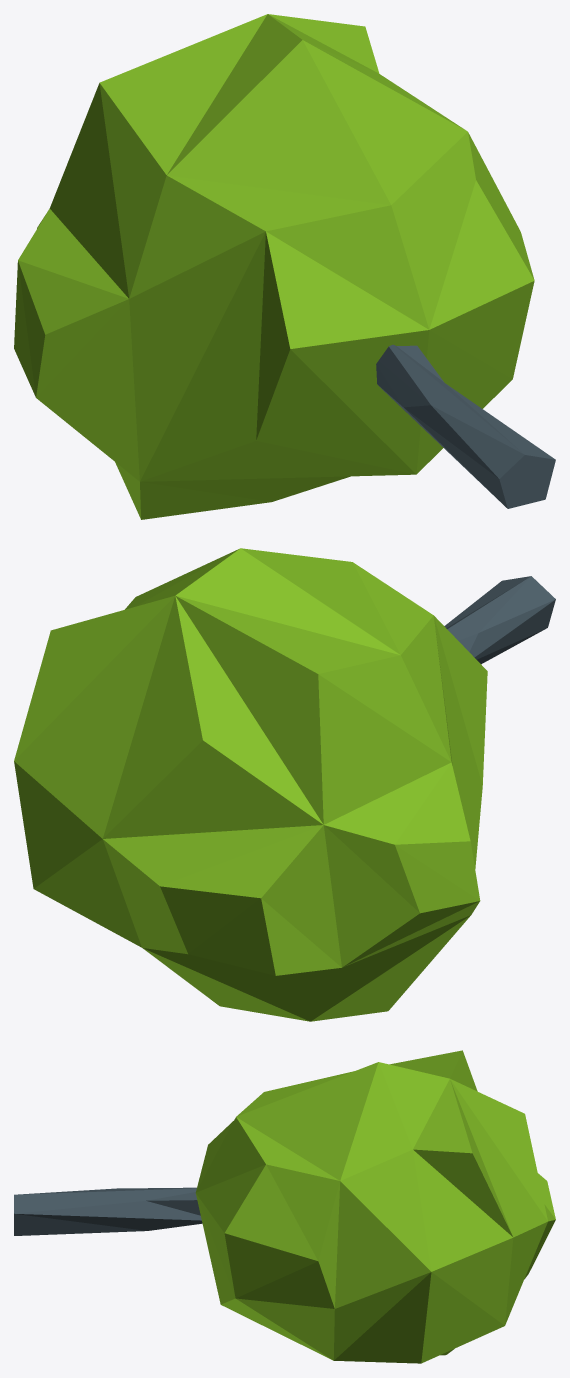
File: tree1.dae
3 views of the same model, one above another, from view 1: azimuth 30°, elevation 25°; view 2: azimuth 150°, elevation 25°; view 3: azimuth 270°, elevation 25° (orthographic). The views are drawn at different scales.
Parts seen in each view (by area): view 1: crown, trunk; view 2: crown, trunk; view 3: crown, trunk.
Part boxes in pixels (box(x1,y1,x2,y2)): crown: box(14, 14, 534, 519); trunk: box(376, 344, 555, 508); crown: box(14, 548, 487, 1021); trunk: box(444, 576, 555, 664); crown: box(195, 1050, 555, 1363); trunk: box(14, 1187, 202, 1235).
Bounding box in the file's own units: 20.49 × 31.28 × 19.73.
